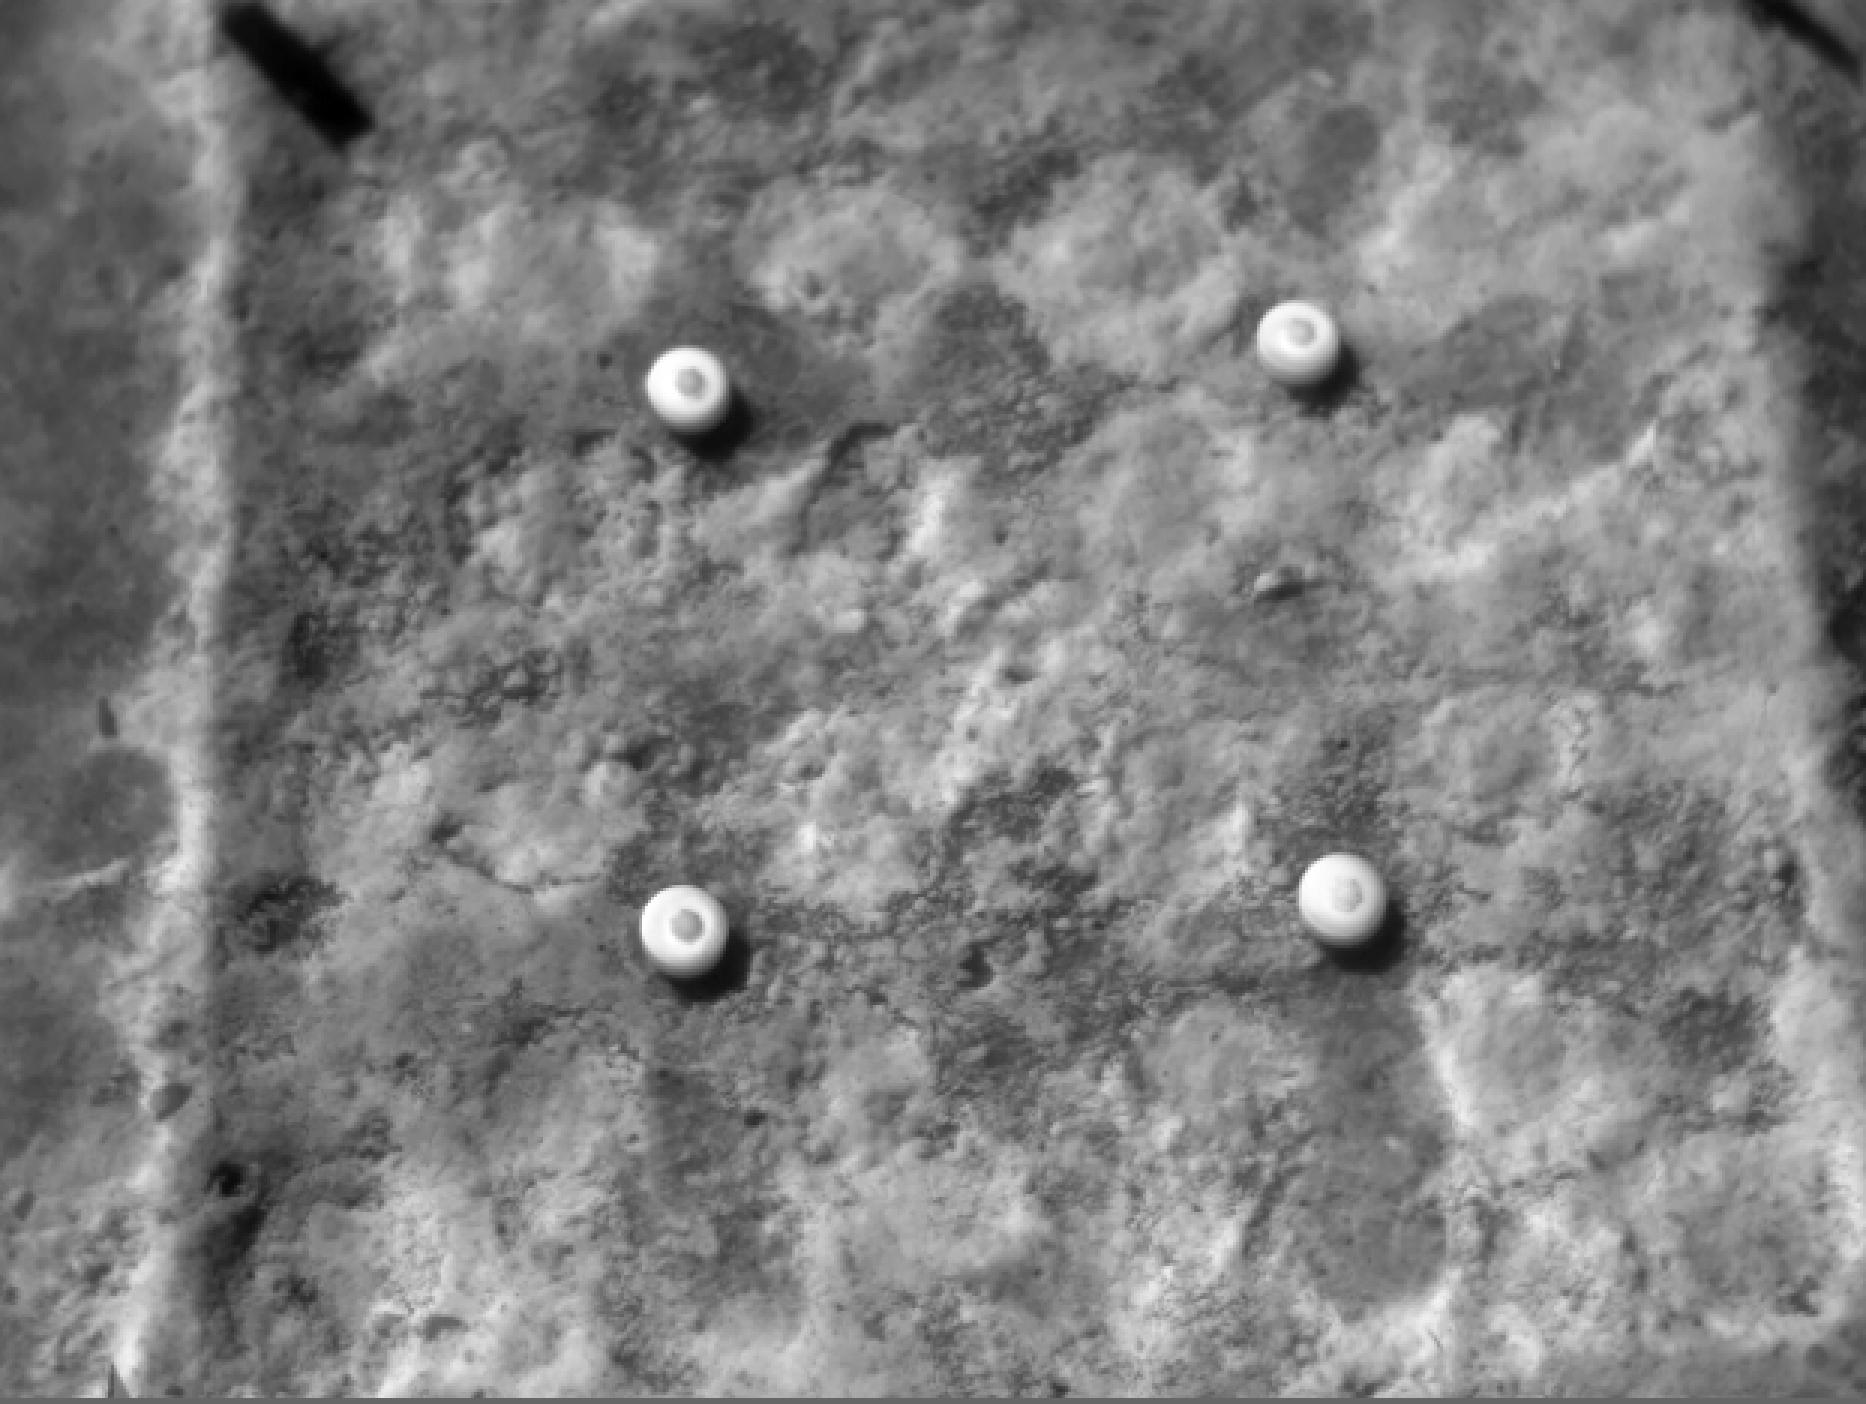mines-gjV8: (634, 877, 733, 987), (1303, 845, 1395, 941), (645, 342, 723, 445), (1263, 298, 1344, 380)
